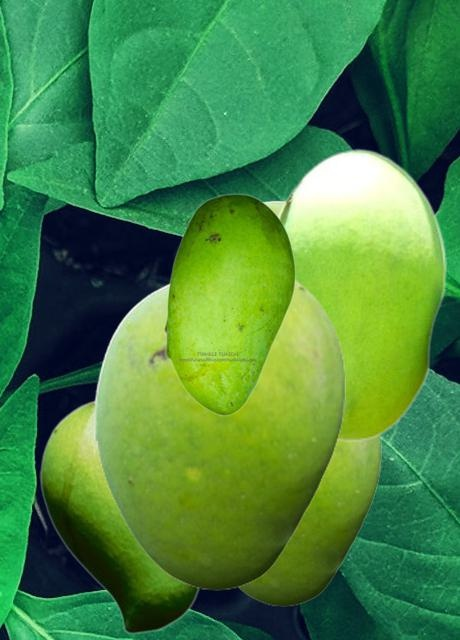green_mango: (93, 277, 344, 589), (275, 148, 445, 440), (39, 399, 201, 633), (163, 193, 295, 415), (238, 436, 380, 605)
